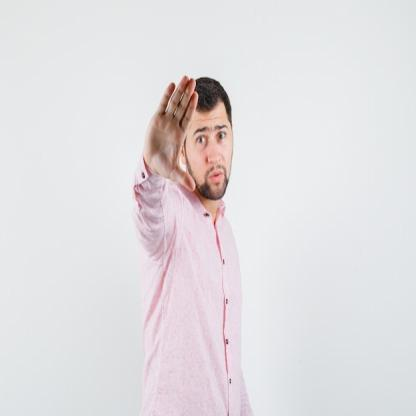stop: (140, 73, 202, 195)
